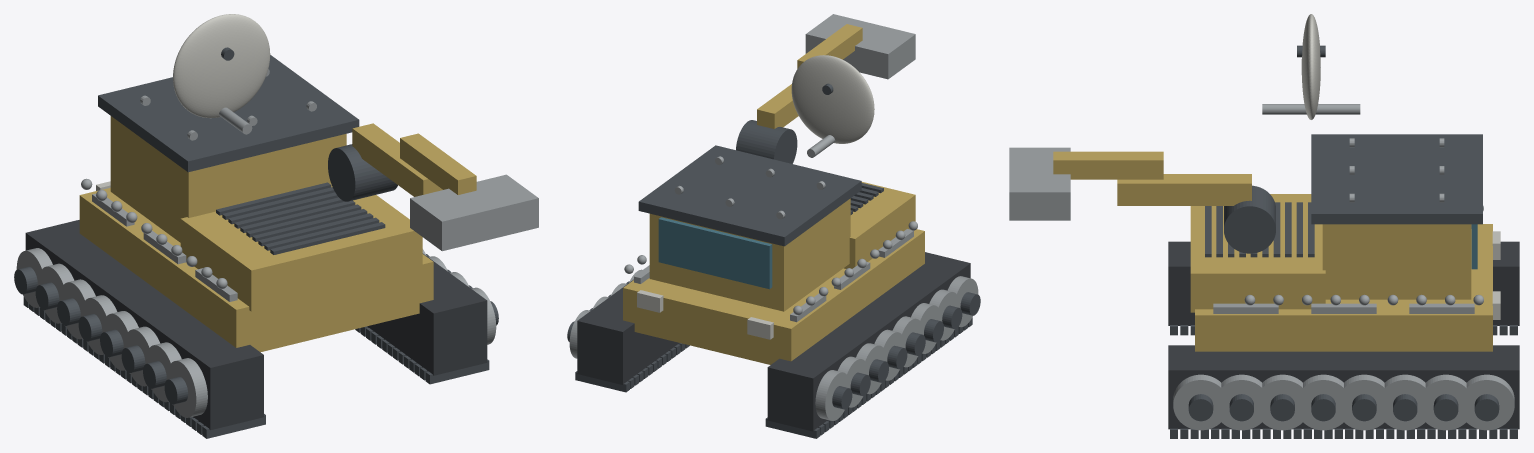
File: RoverLunar20K.glb
3 views of the same model, side by side, from view 1: azimuth 30°, elevation 25°; view 2: azimuth 150°, elevation 25°; view 3: azimuth 270°, elevation 25° (orthographic). The views are drawn at different scales.
Parts seen in each view (by area): view 1: MainChassis, RearEngine, Roof, TrackBelt_-1, Cabin, AntennaDish, TrackBelt_1, ExcavatorBucket, ArmLower, ArmUpper, ArmPivot, Wheel_-1_7 (+27 smaller); view 2: MainChassis, Roof, TrackBelt_-1, Cabin, AntennaDish, FrontGlass, TrackBelt_1, ExcavatorBucket, RearEngine, ArmPivot, ArmUpper, ArmLower (+14 smaller); view 3: Roof, MainChassis, TrackBelt_1, Cabin, RearEngine, ExcavatorBucket, ArmLower, TrackBelt_-1, ArmUpper, ArmPivot, Wheel_1_0, Wheel_1_7 (+19 smaller).
Boxes of the visible parts, <box> form: MainChassis: <box>79,188,433,352</box>; RearEngine: <box>180,183,422,311</box>; Roof: <box>98,55,359,172</box>; TrackBelt_-1: <box>25,220,263,430</box>; Cabin: <box>110,116,346,242</box>; AntennaDish: <box>173,14,270,118</box>; TrackBelt_1: <box>367,253,487,375</box>; ExcavatorBucket: <box>410,174,538,251</box>; ArmLower: <box>352,123,442,196</box>; ArmUpper: <box>400,133,476,194</box>; ArmPivot: <box>328,144,397,201</box>; Wheel_-1_7: <box>167,358,207,417</box>; MainChassis: <box>623,229,924,364</box>; Roof: <box>638,145,861,246</box>; TrackBelt_-1: <box>767,252,970,431</box>; Cabin: <box>649,198,850,311</box>; AntennaDish: <box>791,55,874,143</box>; FrontGlass: <box>658,217,772,289</box>; TrackBelt_1: <box>577,279,678,384</box>; ExcavatorBucket: <box>805,14,915,79</box>; RearEngine: <box>844,182,915,268</box>; ArmPivot: <box>736,120,797,163</box>; ArmUpper: <box>797,24,862,68</box>; ArmLower: <box>757,84,798,128</box>; Roof: <box>1311,134,1482,224</box>; MainChassis: <box>1195,224,1492,351</box>; TrackBelt_1: <box>1168,345,1519,429</box>; Cabin: <box>1322,224,1471,299</box>; RearEngine: <box>1190,194,1325,312</box>; ExcavatorBucket: <box>1009,147,1070,220</box>; ArmLower: <box>1117,174,1251,205</box>; TrackBelt_-1: <box>1168,241,1519,325</box>; ArmUpper: <box>1053,151,1163,179</box>; ArmPivot: <box>1224,185,1275,253</box>; Wheel_1_0: <box>1459,374,1514,430</box>; Wheel_1_7: <box>1173,374,1228,430</box>.
Bounding box in the file's own units: 4.32 × 4.46 × 6.24.
